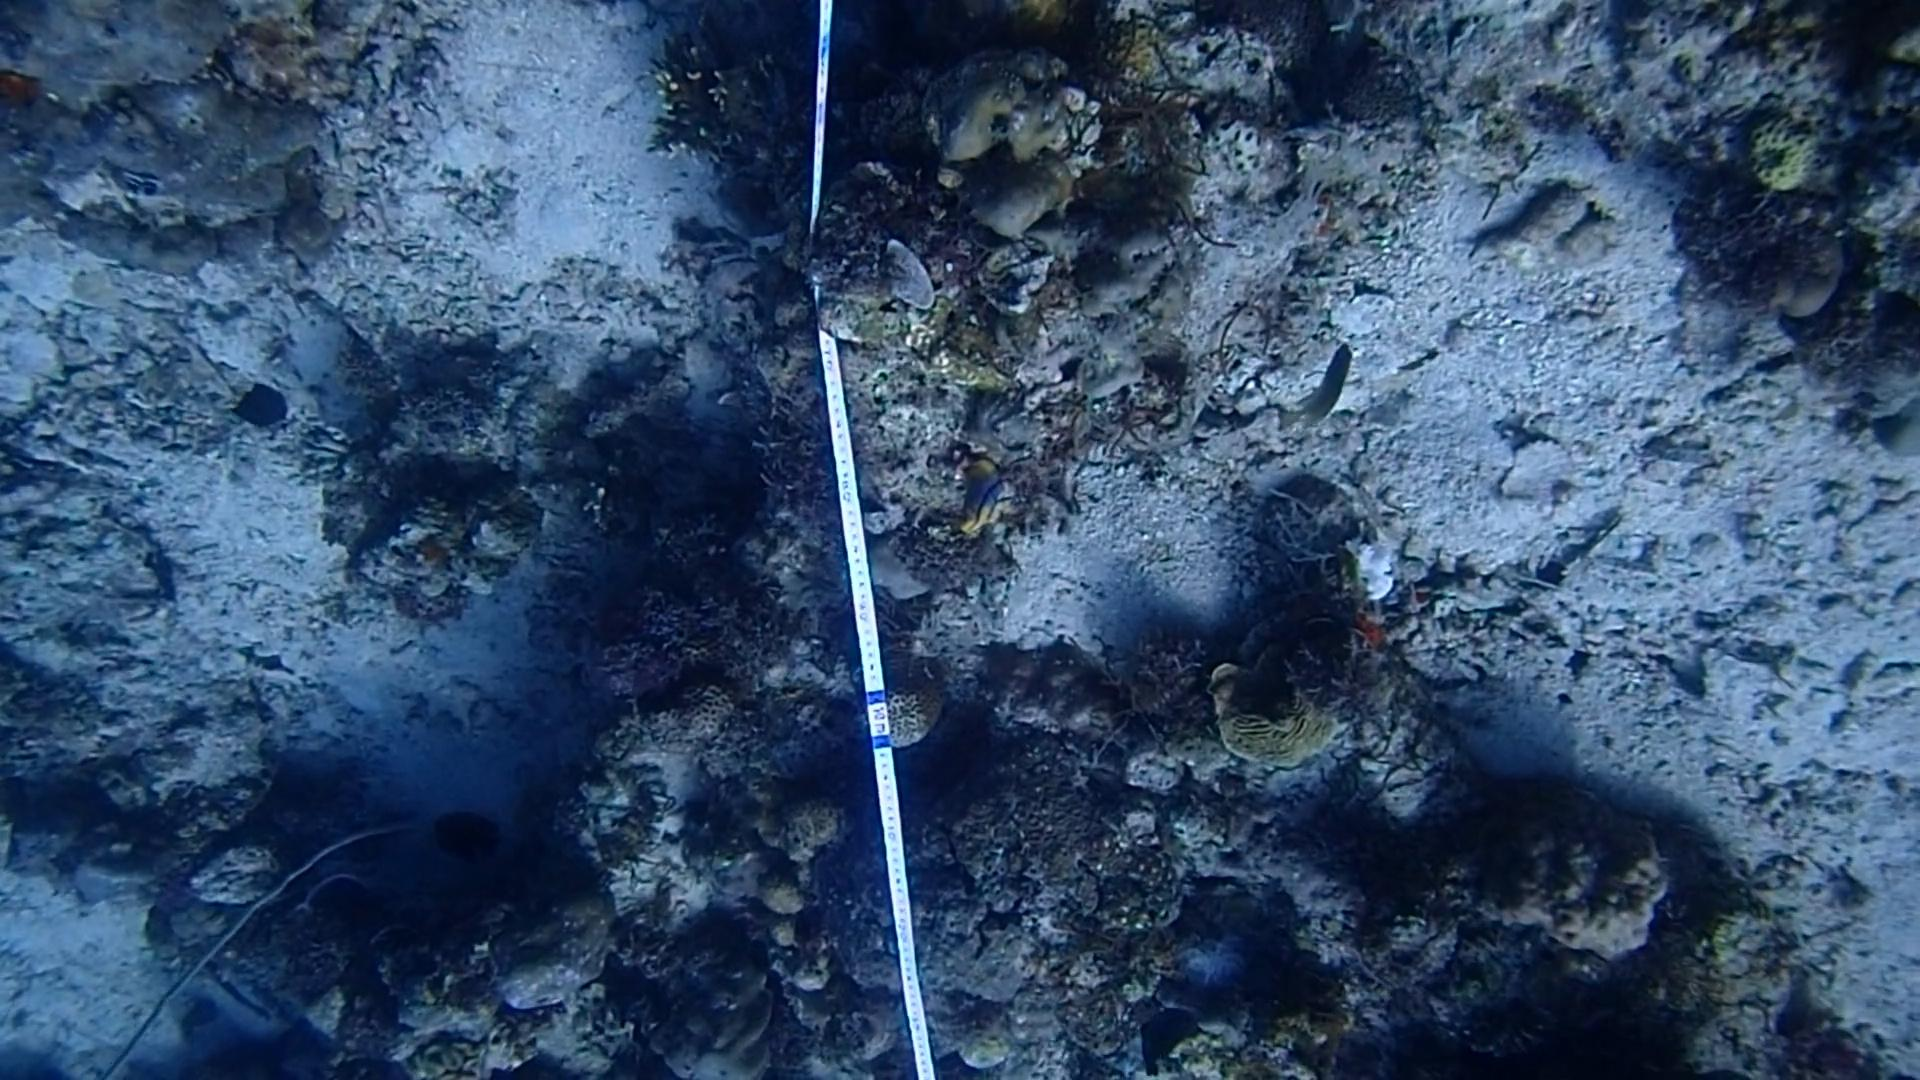Dark Fish: (1131, 1001, 1208, 1080), (419, 807, 506, 869), (227, 372, 297, 438)
Light Fish: (1278, 347, 1370, 433)
